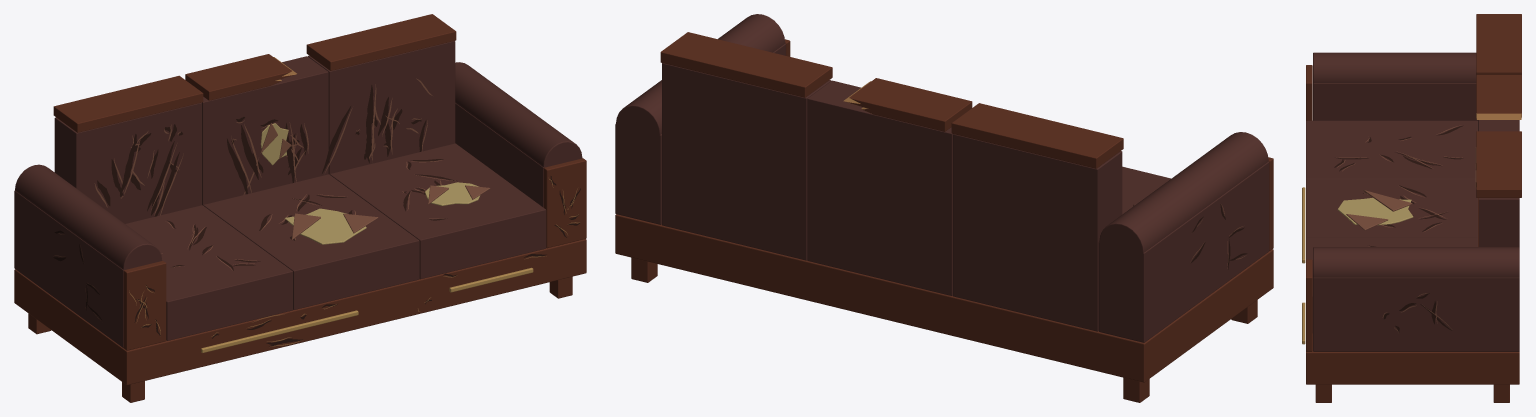
File: masterroom_sofa2.fbx
3 views of the same model, side by side, from view 1: azimuth 30°, elevation 25°; view 2: azimuth 150°, elevation 25°; view 3: azimuth 270°, elevation 25° (orthographic). The views are drawn at different scales.
Visible parts, largest first — view 1: 02_ReceptionSofa_Wrecked_Sofa_3S_Cushion, 02_ReceptionSofa_Wrecked_Sofa_3S_Frame; view 2: 02_ReceptionSofa_Wrecked_Sofa_3S_Cushion, 02_ReceptionSofa_Wrecked_Sofa_3S_Frame; view 3: 02_ReceptionSofa_Wrecked_Sofa_3S_Frame, 02_ReceptionSofa_Wrecked_Sofa_3S_Cushion.
Part boxes in pixels (x1,y1,x2,y2): 02_ReceptionSofa_Wrecked_Sofa_3S_Cushion: [53, 14, 546, 340]; 02_ReceptionSofa_Wrecked_Sofa_3S_Frame: [14, 62, 586, 402]; 02_ReceptionSofa_Wrecked_Sofa_3S_Cushion: [660, 32, 1170, 331]; 02_ReceptionSofa_Wrecked_Sofa_3S_Frame: [615, 14, 1273, 402]; 02_ReceptionSofa_Wrecked_Sofa_3S_Frame: [1302, 52, 1519, 402]; 02_ReceptionSofa_Wrecked_Sofa_3S_Cushion: [1306, 14, 1521, 332].
Size of the model in its own units: 185 by 80.2 by 80.2.
